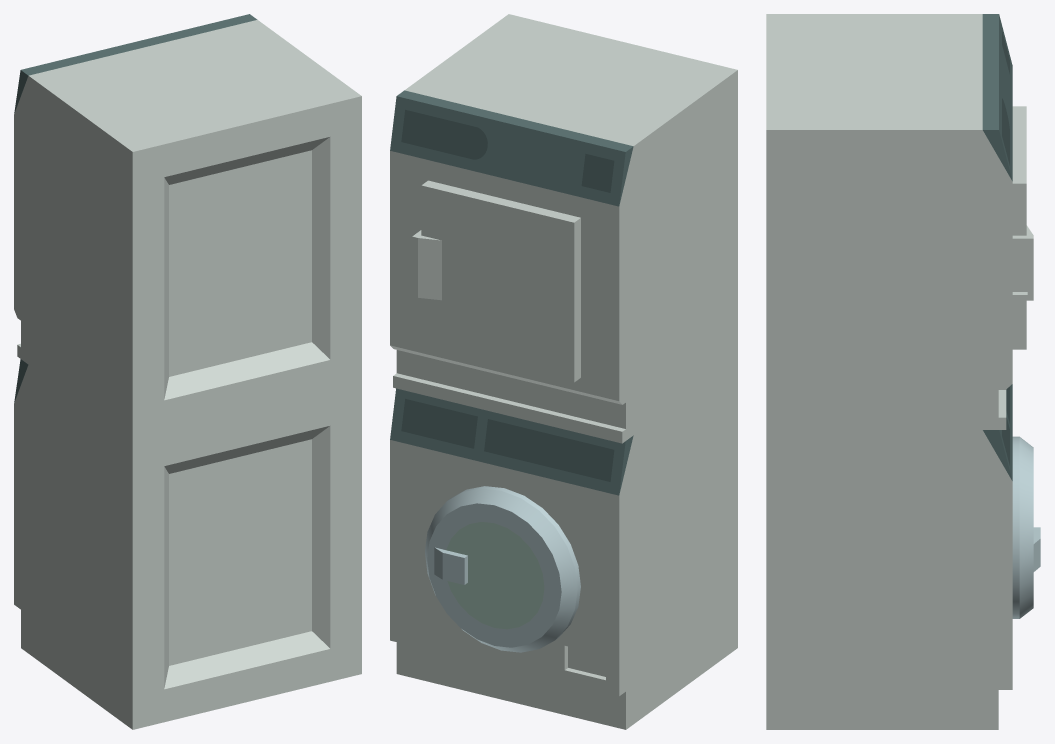
The model's file is washerDryerStacked.dae.
3 renders of one model, left to right at view 1: azimuth 30°, elevation 25°; view 2: azimuth 150°, elevation 25°; view 3: azimuth 270°, elevation 25°, orthographic. The views are drawn at different scales.
Visible parts, largest first — view 1: washerDryerStacked; view 2: washerDryerStacked, dryerDoor, washerDoor; view 3: washerDryerStacked, washerDoor, dryerDoor.
Part boxes in pixels (box(x1,y1,x2,y2)): washerDryerStacked: box(14, 14, 361, 729); washerDryerStacked: box(390, 14, 737, 729); dryerDoor: box(412, 180, 580, 382); washerDoor: box(425, 486, 580, 652); washerDryerStacked: box(766, 14, 1012, 729); washerDoor: box(1012, 436, 1040, 618); dryerDoor: box(1012, 106, 1033, 349).
Bounding box in the file's own units: 0.39 × 0.94 × 0.39.
